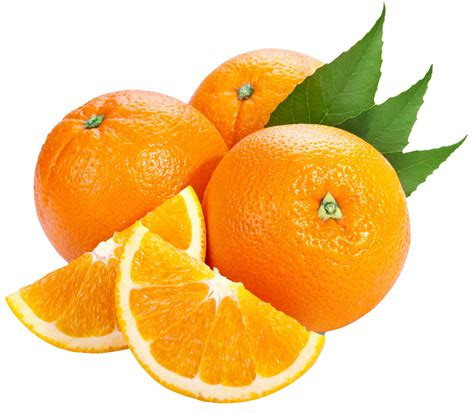orange: (200, 120, 421, 333), (29, 88, 228, 247), (180, 44, 353, 133)
